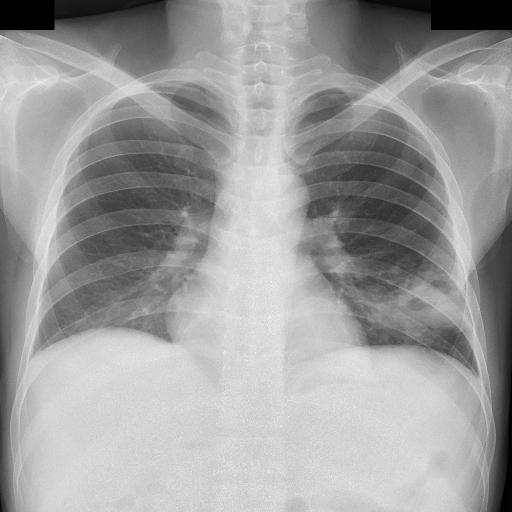Consolidation: (322, 231, 424, 298)
Lung Opacity: (331, 244, 423, 302)
Pleural thickening: (292, 78, 360, 98), (124, 76, 176, 84)
